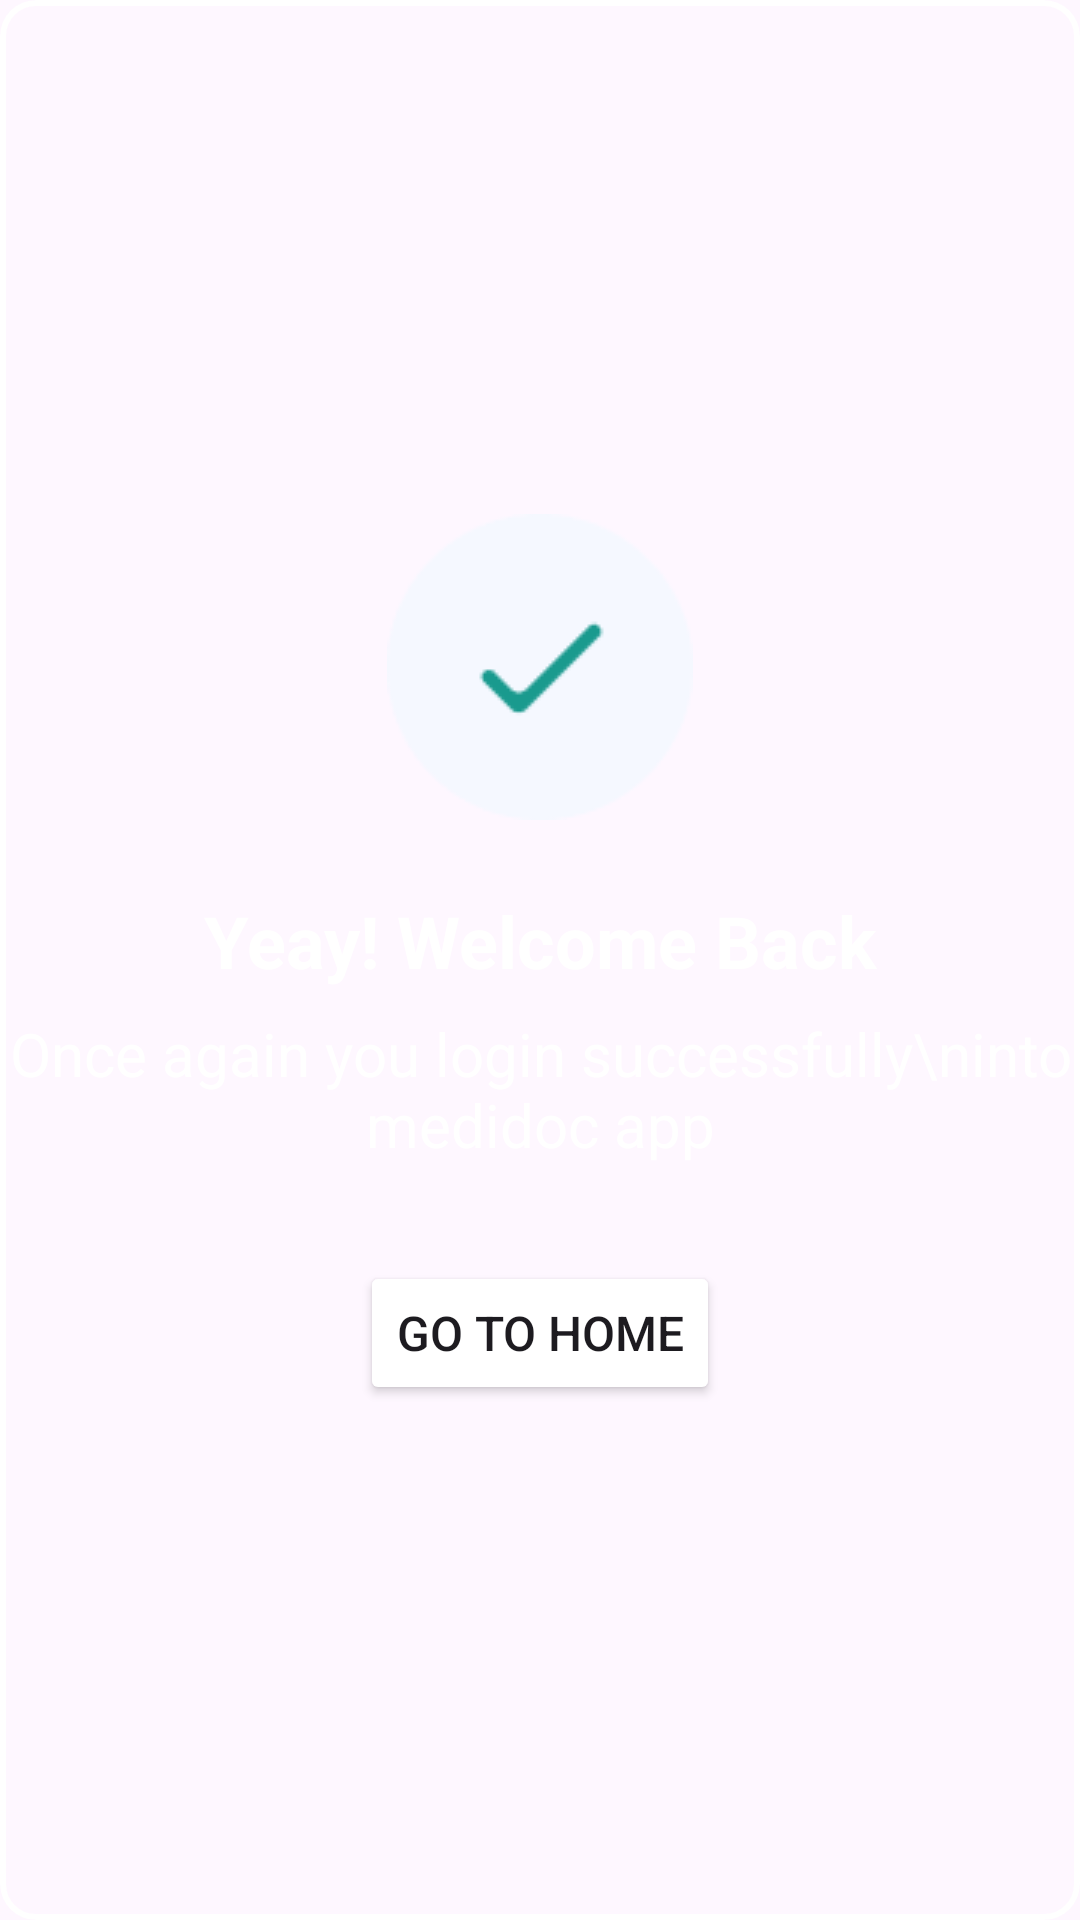

Icons on this 1080px x 1920px Android screen, each with its box as detection(x1, y1, x2, y2):
done: detection(387, 514, 693, 820)
